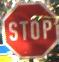Stop sign: (0, 0, 58, 61)
